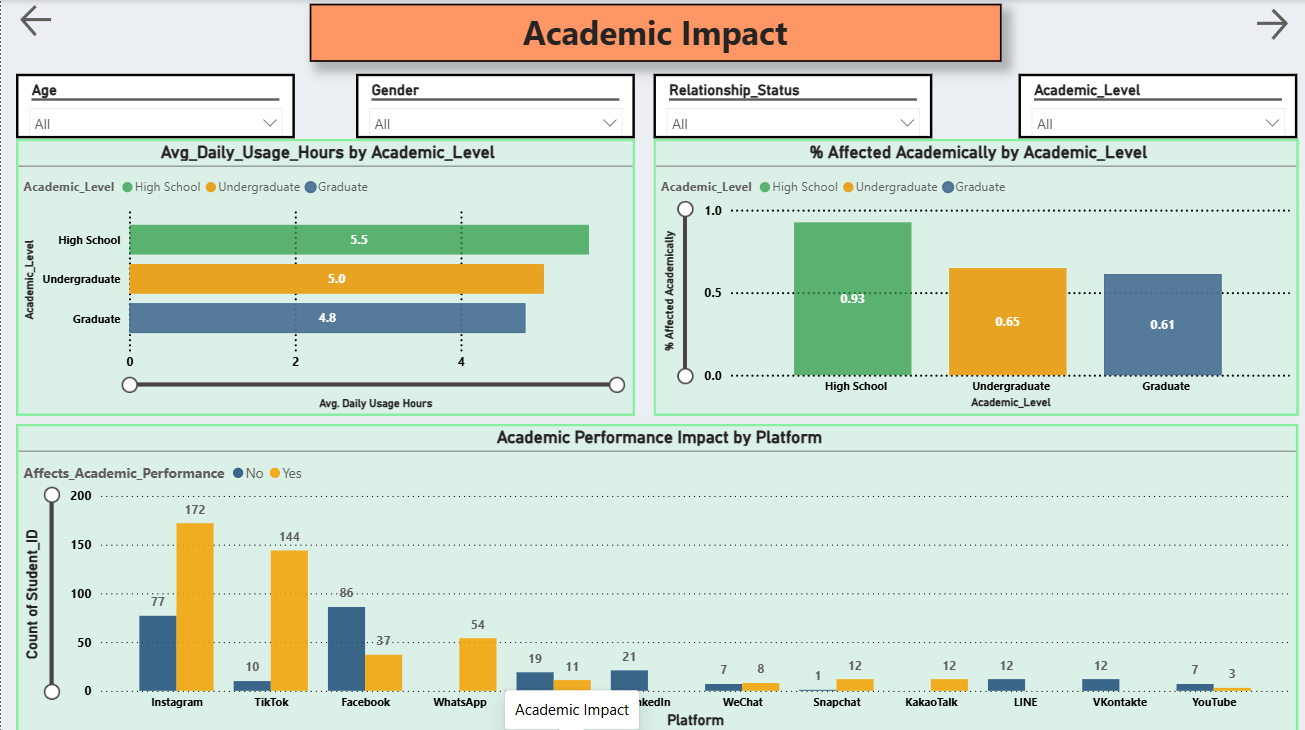

Layout of this report page (visuals, bound fields, positions):
{"tool":"powerbi","page":{"name":"Academic Impact","canvas":[1280,720],"ordinal":3},"visuals":[{"type":"barChart","title":" Avg_Daily_Usage_Hours by Academic_Level ","fields":{"Category":["Student Details.Academic_Level"],"Y":["Avg(Platform Details.Avg_Daily_Usage_Hours)"],"Series":["Student Details.Academic_Level"]},"box":[14.7,135.7,605.3,271.5],"z":0},{"type":"clusteredColumnChart","title":"Academic Performance Impact by Platform","fields":{"Category":["Platform Details.Most_Used_Platform"],"Y":["CountNonNull(Student Details.Student_ID)"],"Series":["Platform Details.Affects_Academic_Performance"]},"box":[15.1,414.4,1254.2,306],"z":1000},{"type":"slicer","fields":{"Values":["Student Details.Age"]},"box":[14.9,72,273.1,63.3],"z":2000},{"type":"columnChart","title":"% Affected Academically by Academic_Level ","fields":{"Category":["Student Details.Academic_Level"],"Y":["Platform Details.% Affected Academically"],"Series":["Student Details.Academic_Level"]},"box":[638.3,135.7,631,271.5],"z":3000},{"type":"textbox","box":[301.6,3.7,676.5,57.1],"z":4000},{"type":"actionButton","box":[14.7,0,100.3,40.4],"z":5000},{"type":"actionButton","box":[1222.8,3.7,57.5,40.4],"z":6000},{"type":"slicer","fields":{"Values":["Student Details.Gender"]},"box":[347.6,72,273.1,63.3],"z":7000},{"type":"slicer","fields":{"Values":["Student Details.Relationship_Status"]},"box":[638,72,273.1,63.3],"z":8000},{"type":"slicer","fields":{"Values":["Student Details.Academic_Level"]},"box":[995.5,72,273.1,63.3],"z":9000}]}

Visuals, with their boxes in screenshot pixels (x1, y1, x2, y2), scaled from the page's 1280x720 canvas onto the 1305x730 screenshot:
" Avg_Daily_Usage_Hours by Academic_Level " barChart: {"x1": 15, "y1": 138, "x2": 632, "y2": 413}
"Academic Performance Impact by Platform" clusteredColumnChart: {"x1": 15, "y1": 420, "x2": 1294, "y2": 729}
slicer - Student Details.Age: {"x1": 15, "y1": 73, "x2": 294, "y2": 137}
"% Affected Academically by Academic_Level " columnChart: {"x1": 651, "y1": 138, "x2": 1294, "y2": 413}
textbox: {"x1": 307, "y1": 4, "x2": 997, "y2": 62}
actionButton: {"x1": 15, "y1": 0, "x2": 117, "y2": 41}
actionButton: {"x1": 1247, "y1": 4, "x2": 1304, "y2": 45}
slicer - Student Details.Gender: {"x1": 354, "y1": 73, "x2": 633, "y2": 137}
slicer - Student Details.Relationship_Status: {"x1": 650, "y1": 73, "x2": 929, "y2": 137}
slicer - Student Details.Academic_Level: {"x1": 1015, "y1": 73, "x2": 1293, "y2": 137}
